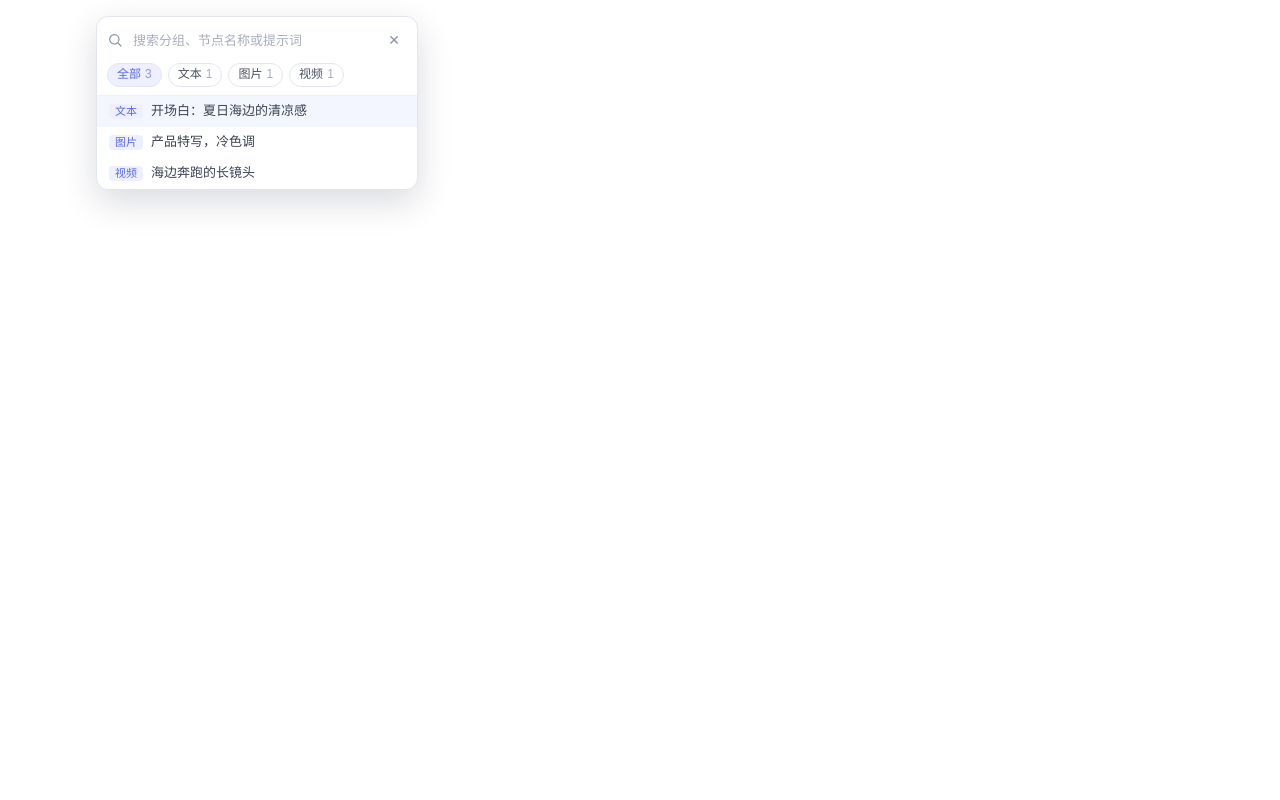
Test case: CanvasNodeSearch › 按类型筛选，再点一次取消筛选
This screenshot has width=1280, height=800.
Click the radio button labelled "视频 1": (316, 75) x1=289 y1=63 x2=344 y2=87
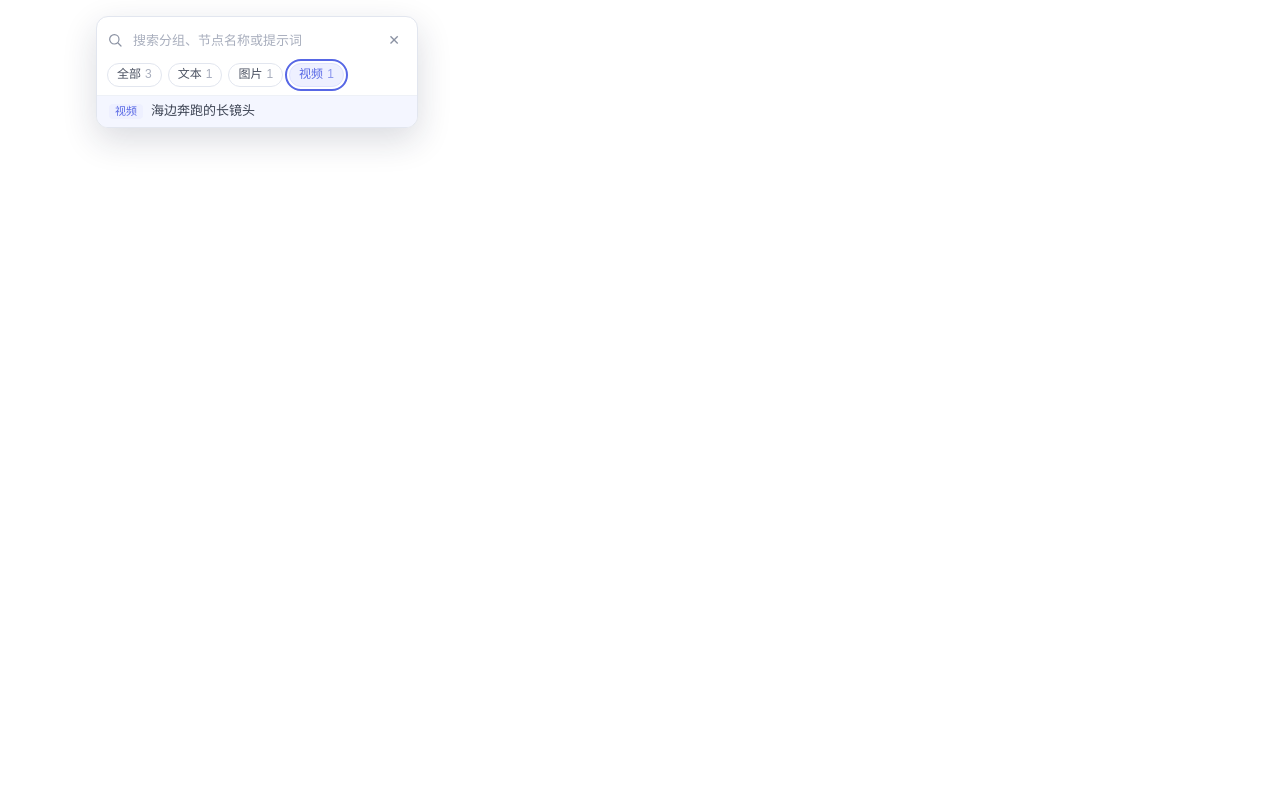
Expected: the option shows "海边奔跑的长镜头", x1=97 y1=96 x2=417 y2=127
Expected: the number of options is 1, x1=97 y1=96 x2=417 y2=127
Click the radio button labelled "视频 1": (316, 75) x1=289 y1=63 x2=344 y2=87
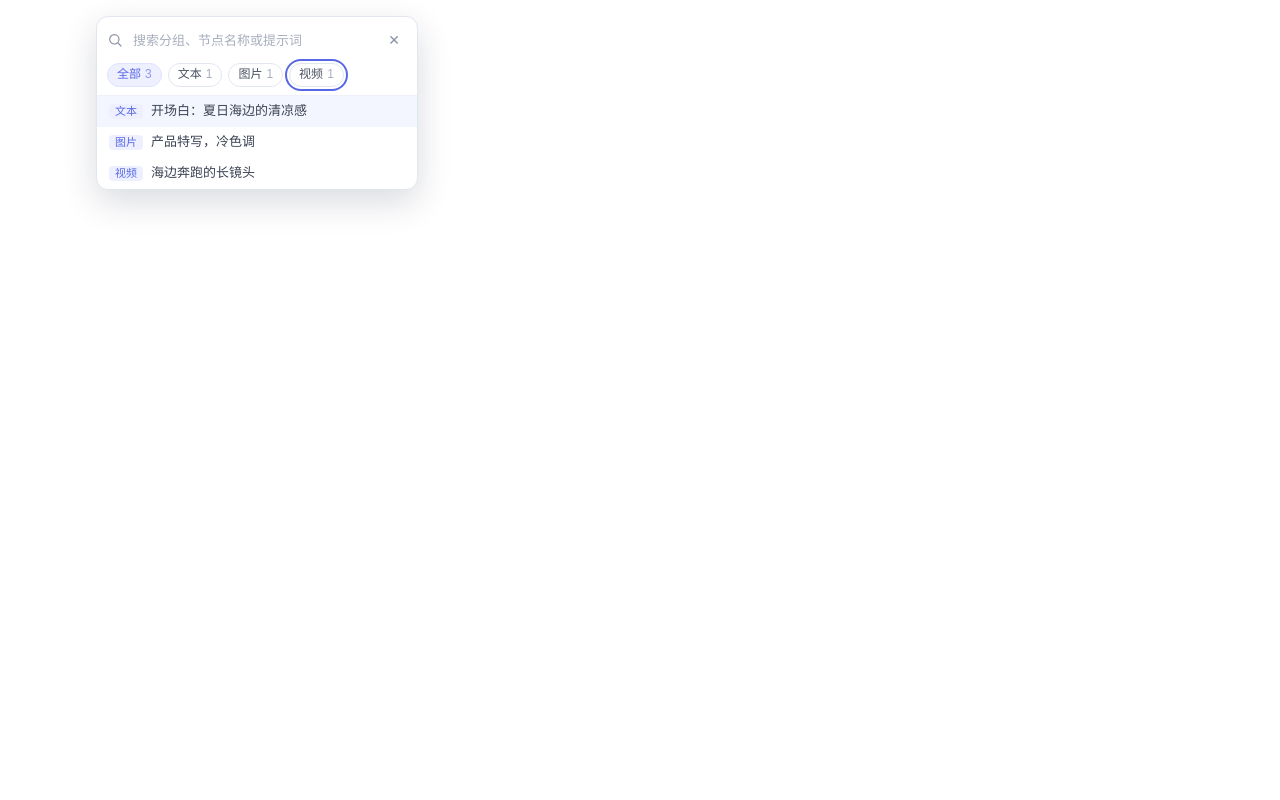
Expected: the number of options is 3, x1=97 y1=96 x2=417 y2=127; x1=97 y1=127 x2=417 y2=158; x1=97 y1=158 x2=417 y2=189
